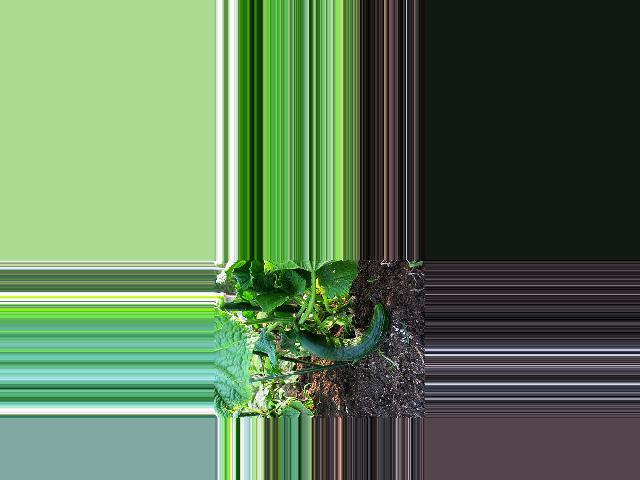cucumber: (296, 302, 389, 361)
